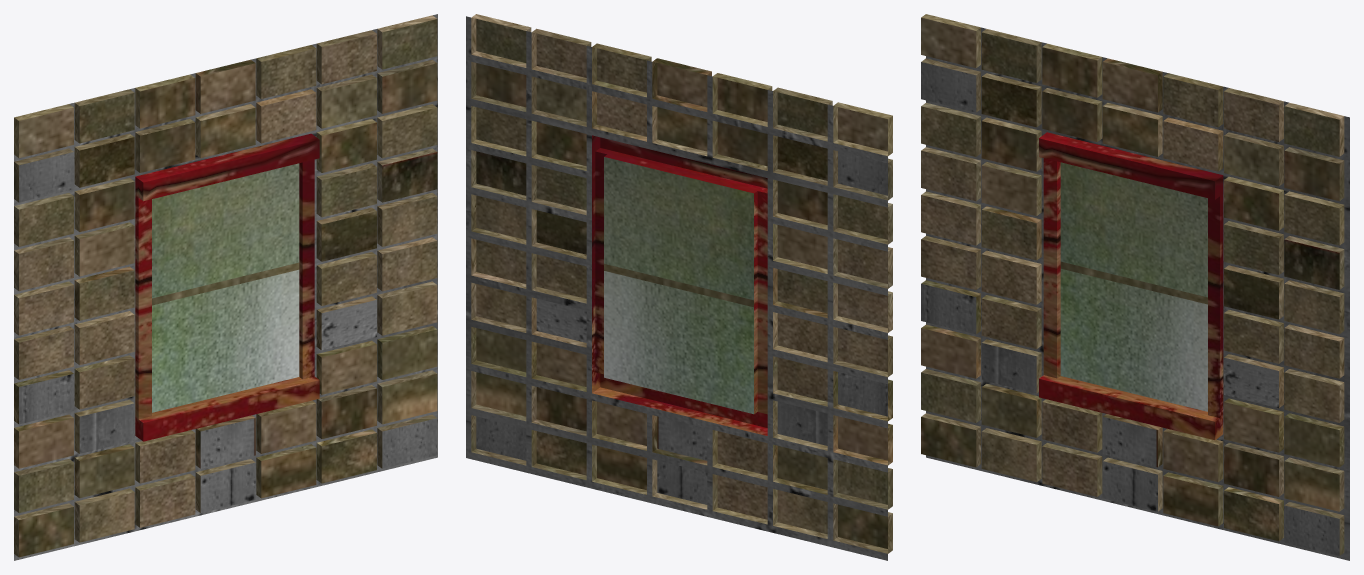
The model's file is Pared_016.fbx.
3 views of the same model, side by side, from view 1: azimuth 30°, elevation 25°; view 2: azimuth 150°, elevation 25°; view 3: azimuth 330°, elevation 25° (orthographic).
Parts seen in each view (by area): view 1: Plane; view 2: Plane; view 3: Plane.
Part boxes in pixels (<box>): Plane: <box>14,14,437,560</box>; Plane: <box>466,14,892,560</box>; Plane: <box>921,14,1349,560</box>.
Bounding box in the file's own units: 600 × 600 × 20.29.
